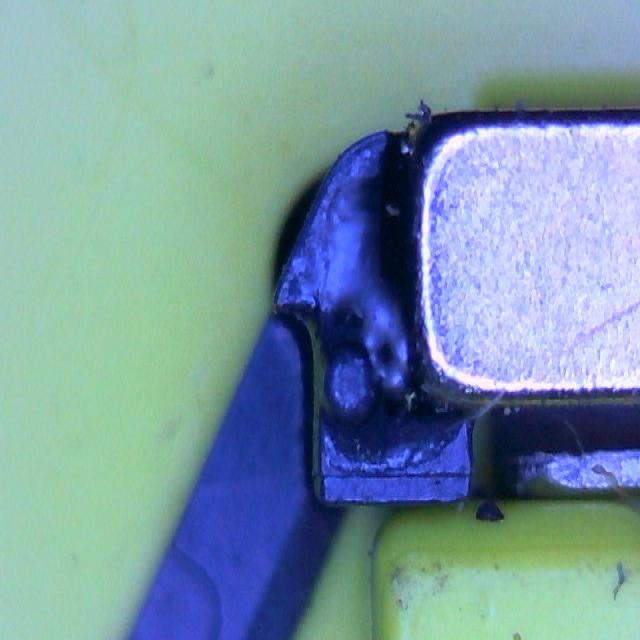over: (329, 180, 409, 388)
